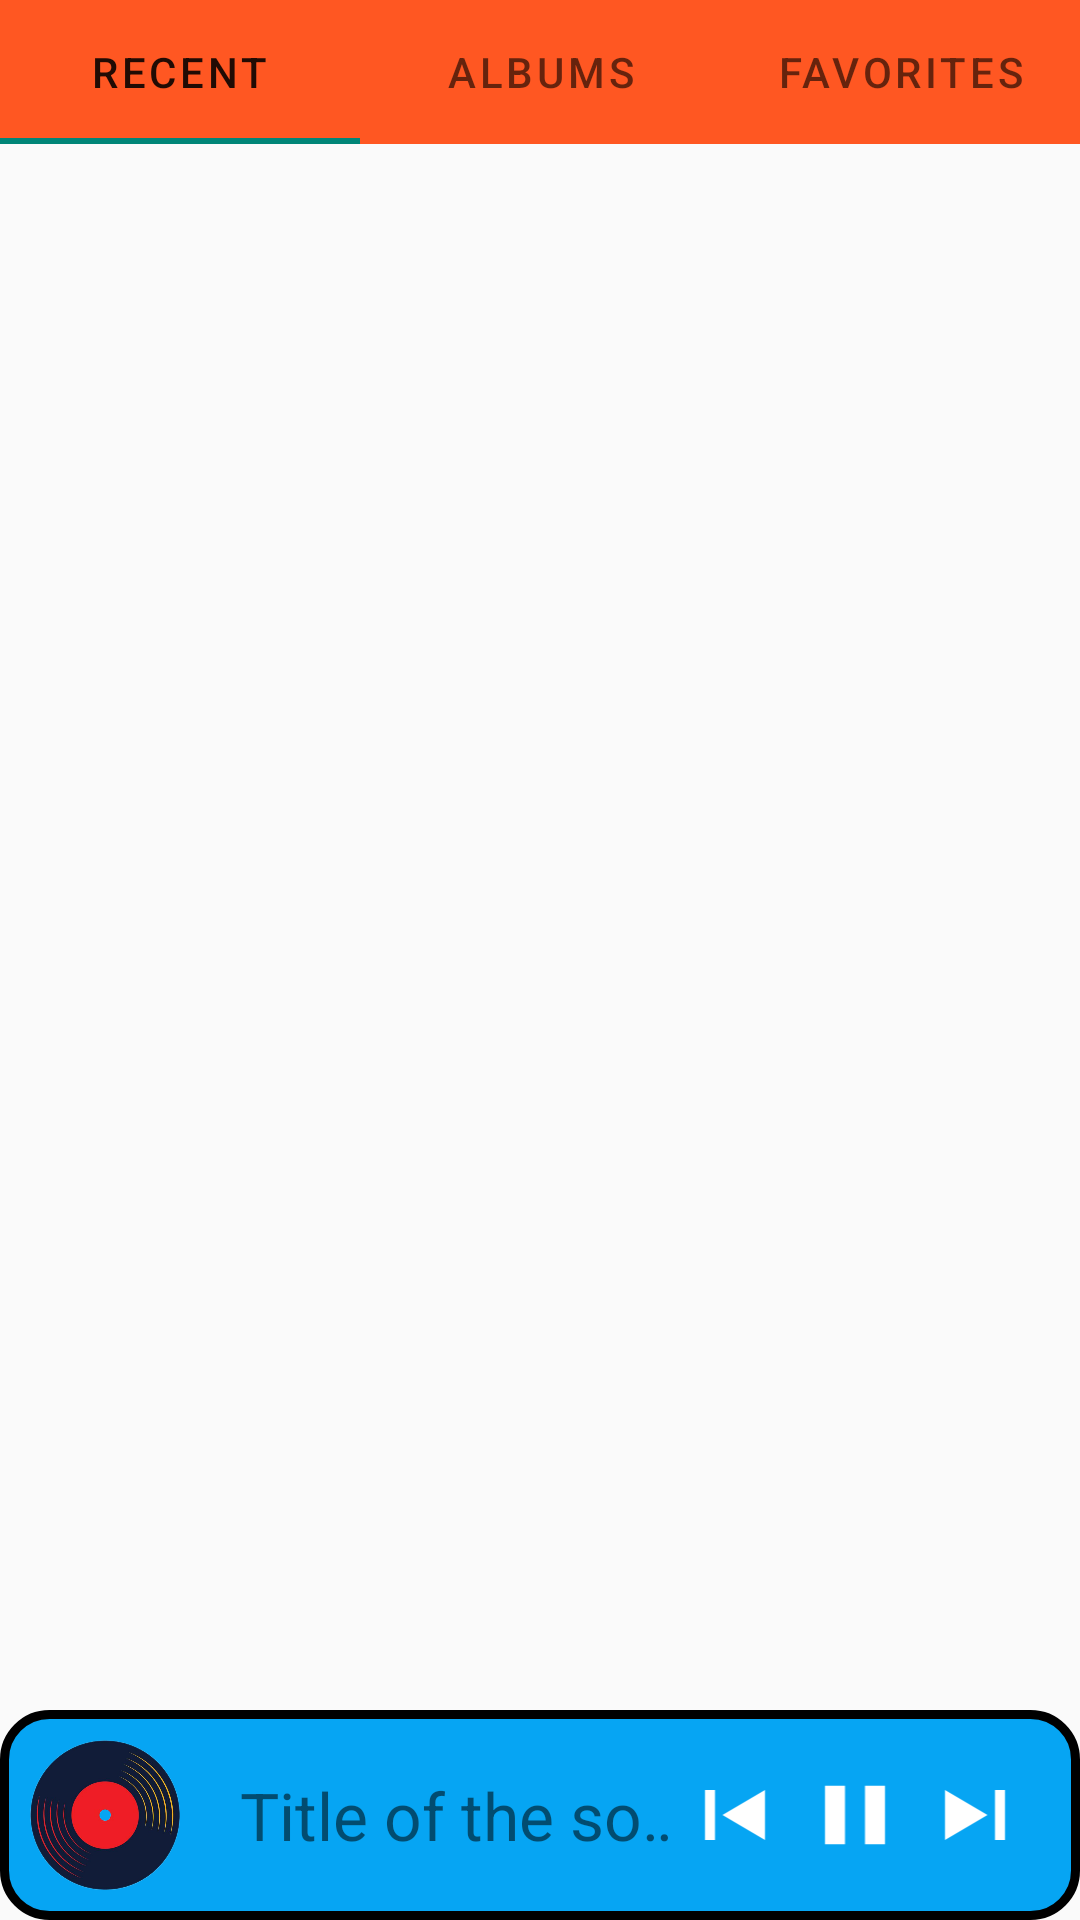

Where to tap for icons on this 1080*1920 app screen, as (x,y):
pause: (855,1815)
play next: (975,1815)
play previous: (735,1815)
vinyl: (105,1815)
